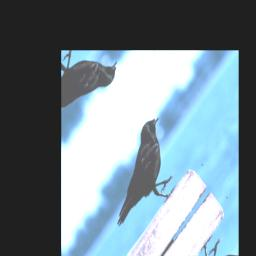Crow: (93, 108, 195, 249)
